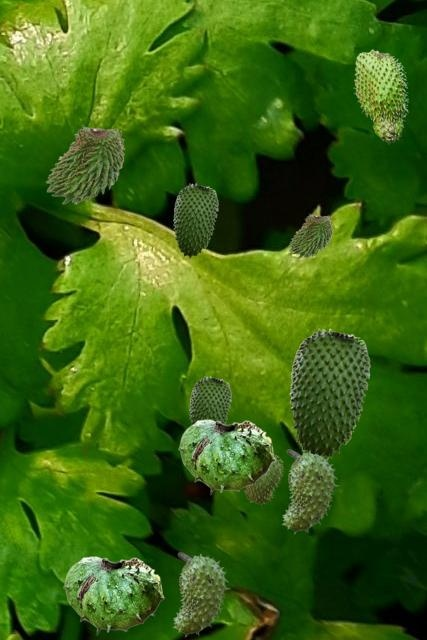guyabano: (289, 328, 369, 458), (63, 556, 163, 634), (178, 419, 274, 494), (45, 124, 124, 203), (353, 49, 408, 143), (281, 449, 338, 533), (172, 552, 229, 636), (173, 183, 217, 257), (243, 454, 283, 504), (189, 376, 230, 424), (288, 213, 332, 257)
